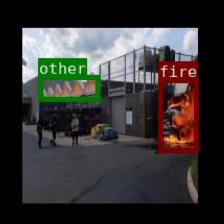fire: (158, 78, 197, 152)
